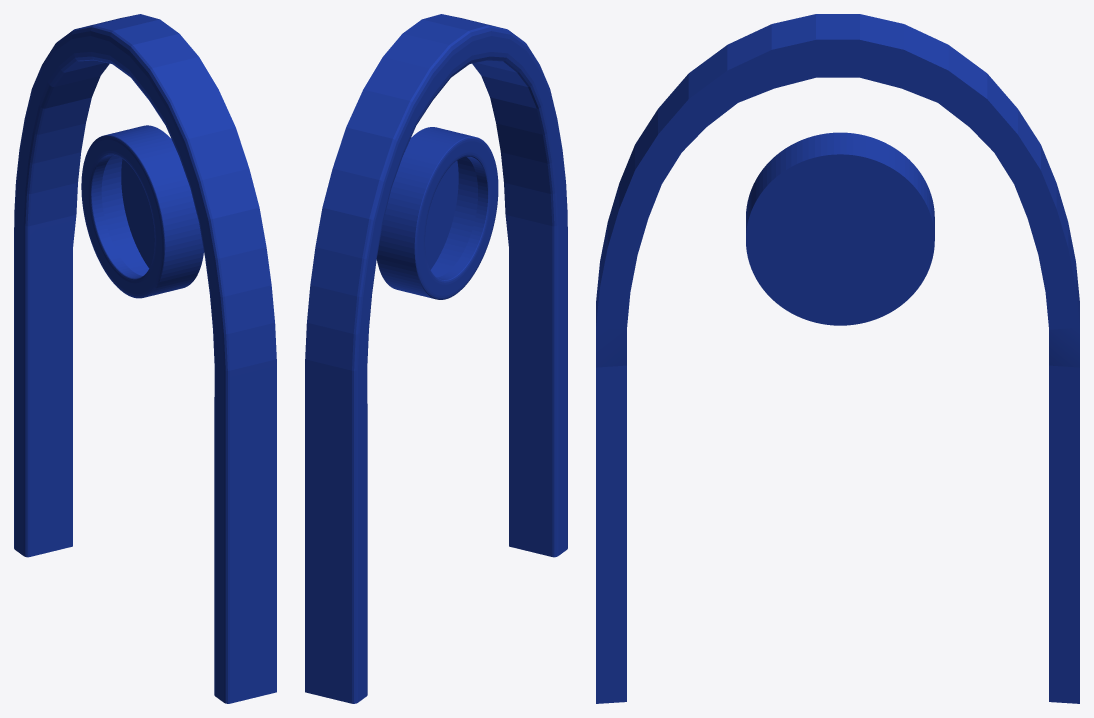
File: env2-pintu1-1.obj
3 renders of one model, left to right at view 1: azimuth 30°, elevation 25°; view 2: azimuth 150°, elevation 25°; view 3: azimuth 270°, elevation 25°, orthographic. The views are drawn at different scales.
Visible parts, largest first — view 1: Cube.003_Cube.001_Cube.003_Cube.001, Cylinder.014_Cylinder.005; view 2: Cube.003_Cube.001_Cube.003_Cube.001, Cylinder.014_Cylinder.005; view 3: Cube.003_Cube.001_Cube.003_Cube.001, Cylinder.014_Cylinder.005.
Boxes of the visible parts, x1,y1,x2,y2 form: Cube.003_Cube.001_Cube.003_Cube.001: [14, 14, 276, 703]; Cylinder.014_Cylinder.005: [81, 125, 203, 298]; Cube.003_Cube.001_Cube.003_Cube.001: [305, 14, 567, 703]; Cylinder.014_Cylinder.005: [376, 127, 498, 299]; Cube.003_Cube.001_Cube.003_Cube.001: [596, 14, 1079, 703]; Cylinder.014_Cylinder.005: [746, 132, 934, 325].
Size of the model in its own units: 0.765 by 8.53 by 5.63.
